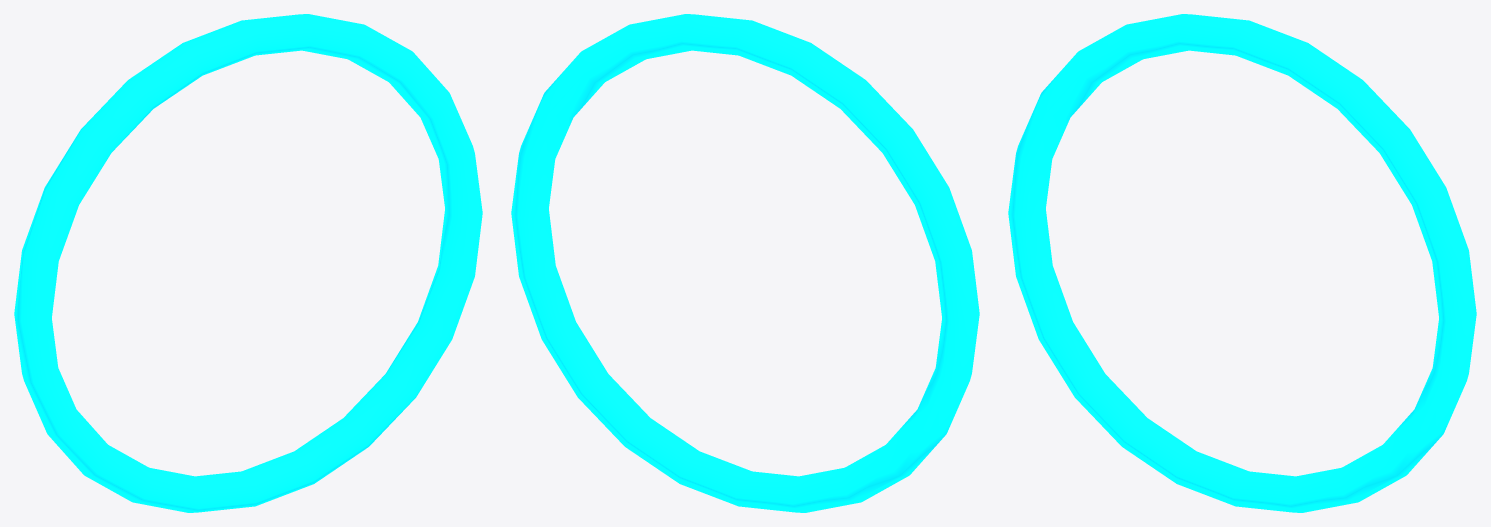
The model's file is portal-ring-cyan.glb.
3 renders of one model, left to right at view 1: azimuth 30°, elevation 25°; view 2: azimuth 150°, elevation 25°; view 3: azimuth 330°, elevation 25°, orthographic.
Visible parts, largest first — view 1: PortalRingCyan; view 2: PortalRingCyan; view 3: PortalRingCyan.
Part boxes in pixels (x1,y1,x2,y2): PortalRingCyan: [14, 14, 482, 512]; PortalRingCyan: [511, 14, 979, 512]; PortalRingCyan: [1008, 14, 1476, 512].
Size of the model in its own units: 2.48 by 2.48 by 0.18.
